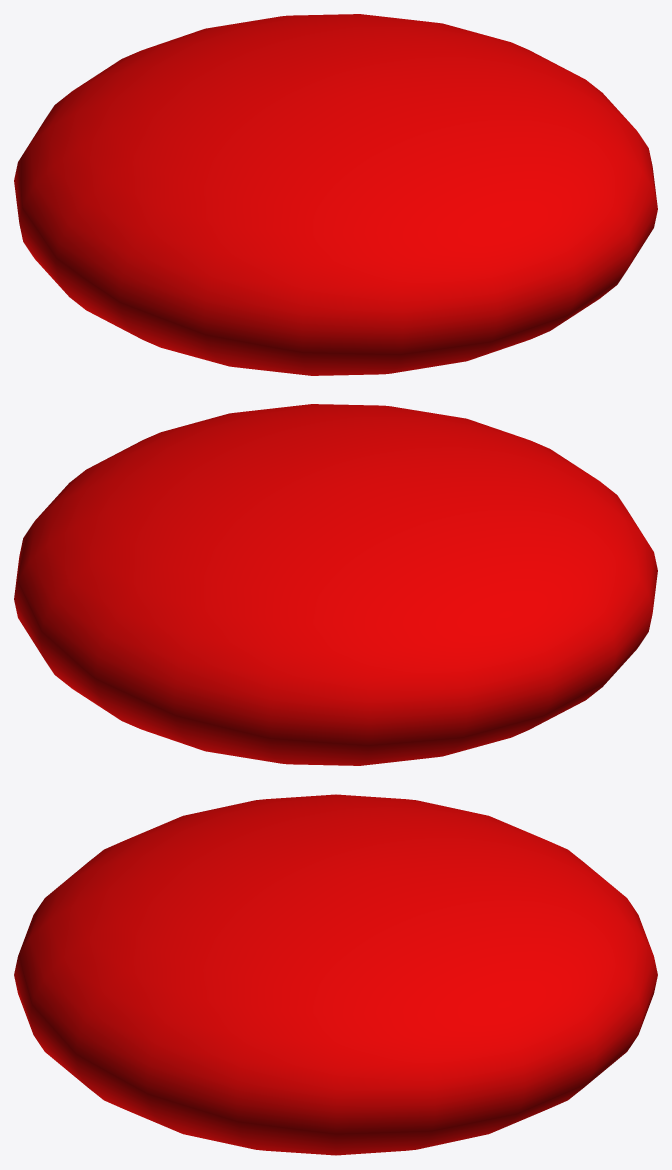
File: target.fbx
3 views of the same model, one above another, from view 1: azimuth 30°, elevation 25°; view 2: azimuth 150°, elevation 25°; view 3: azimuth 270°, elevation 25° (orthographic).
Parts seen in each view (by area): view 1: pSphere11; view 2: pSphere11; view 3: pSphere11.
Part boxes in pixels (left/top/right/bottom): pSphere11: left=14, top=14, right=657, bottom=375; pSphere11: left=14, top=404, right=657, bottom=765; pSphere11: left=14, top=794, right=657, bottom=1155.
Bounding box in the file's own units: 28.67 × 11.71 × 28.67.
